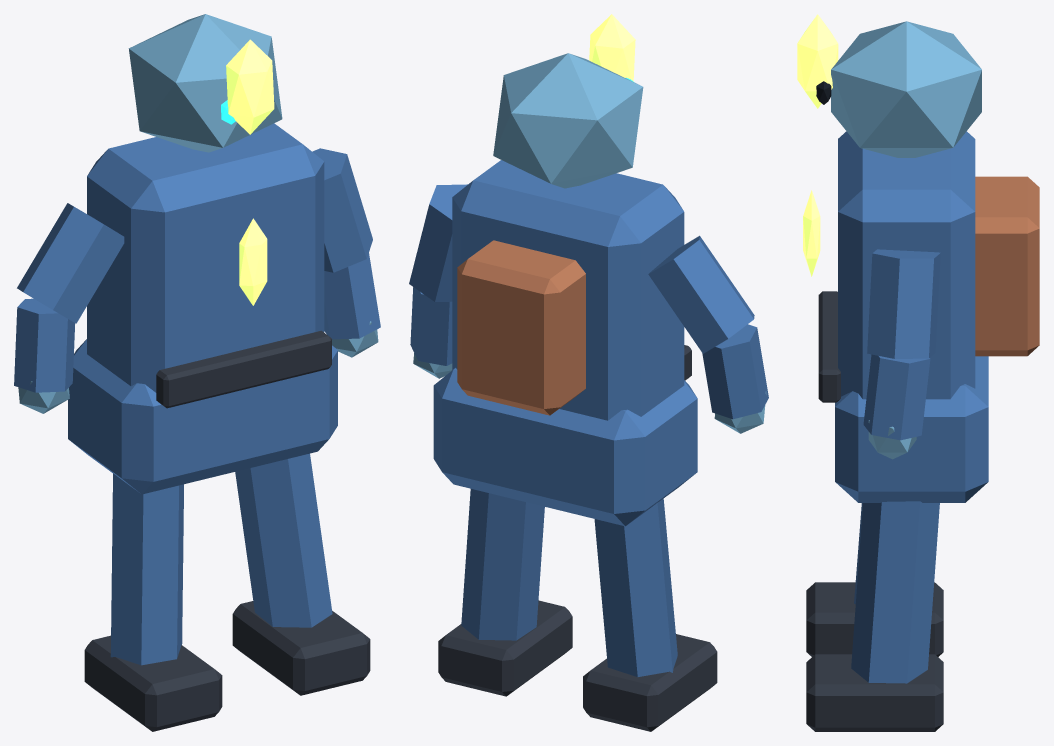
Rendered from npcs_014_seed11.glb.
The picture shows the model from 3 angles, left to right: view 1: azimuth 30°, elevation 25°; view 2: azimuth 150°, elevation 25°; view 3: azimuth 270°, elevation 25°; orthographic projection. The views are drawn at different scales.
Visible parts, largest first — view 1: npcs_014_seed11; view 2: npcs_014_seed11; view 3: npcs_014_seed11.
Part boxes in pixels (x1,y1,x2,y2): npcs_014_seed11: [14, 14, 380, 731]; npcs_014_seed11: [409, 14, 768, 731]; npcs_014_seed11: [797, 14, 1039, 731].
Bounding box in the file's own units: 1.18 × 2.09 × 0.6934.
